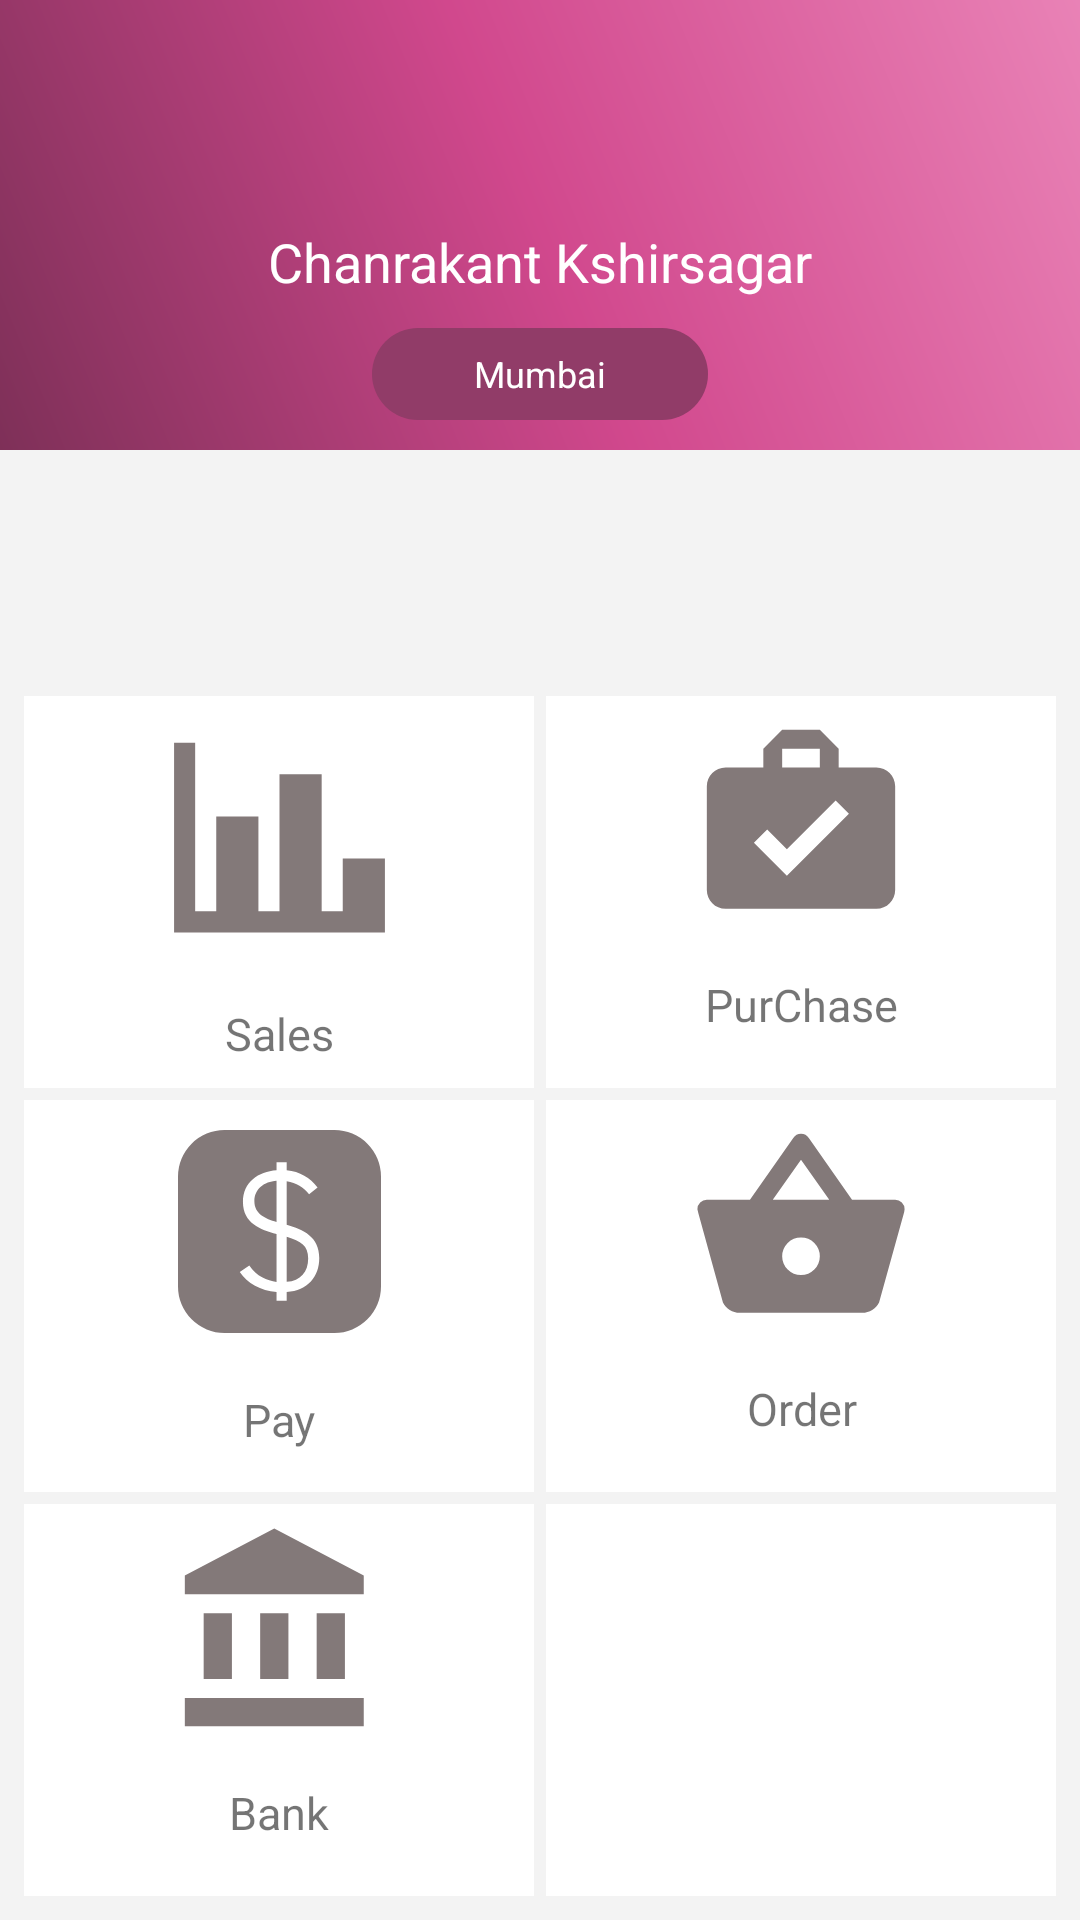

Icon click points for this 1080px x 1920px phone screenshot, format (x,y):
basket: (801,1223)
briefcase check: (801,819)
chart bar: (279,837)
